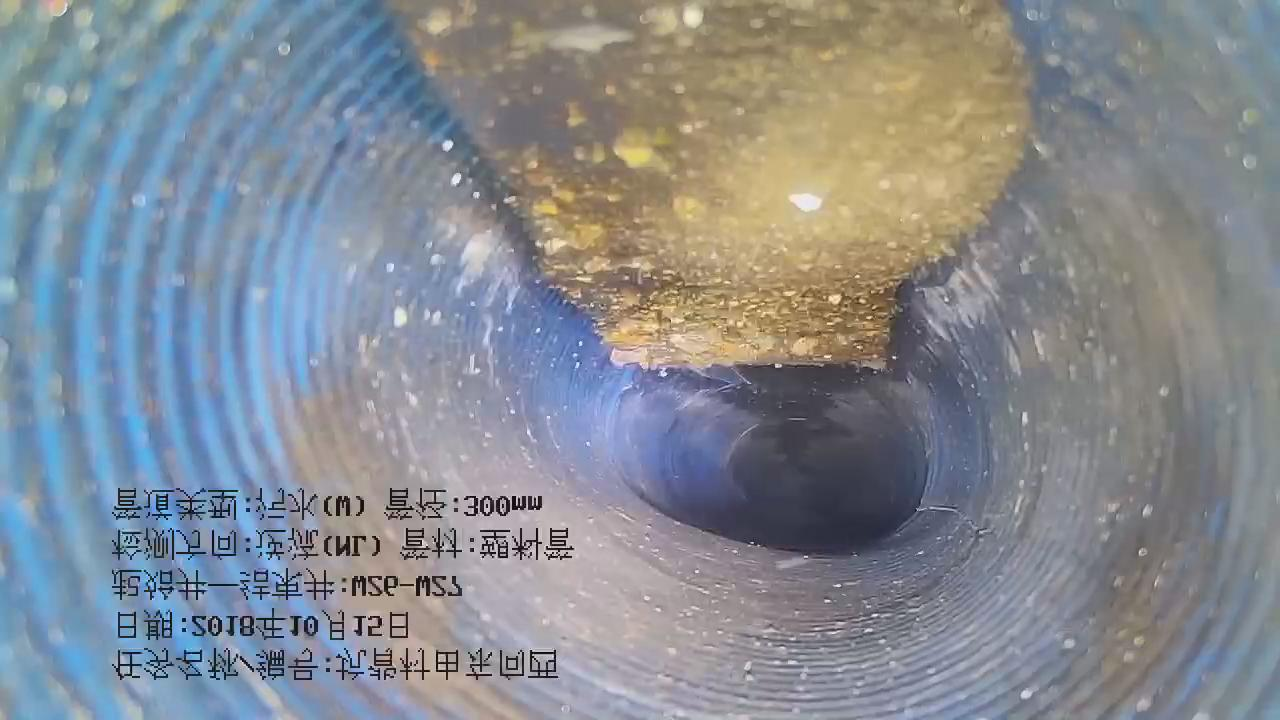BX: (595, 362, 966, 572)
CJ: (397, 1, 1029, 366)
